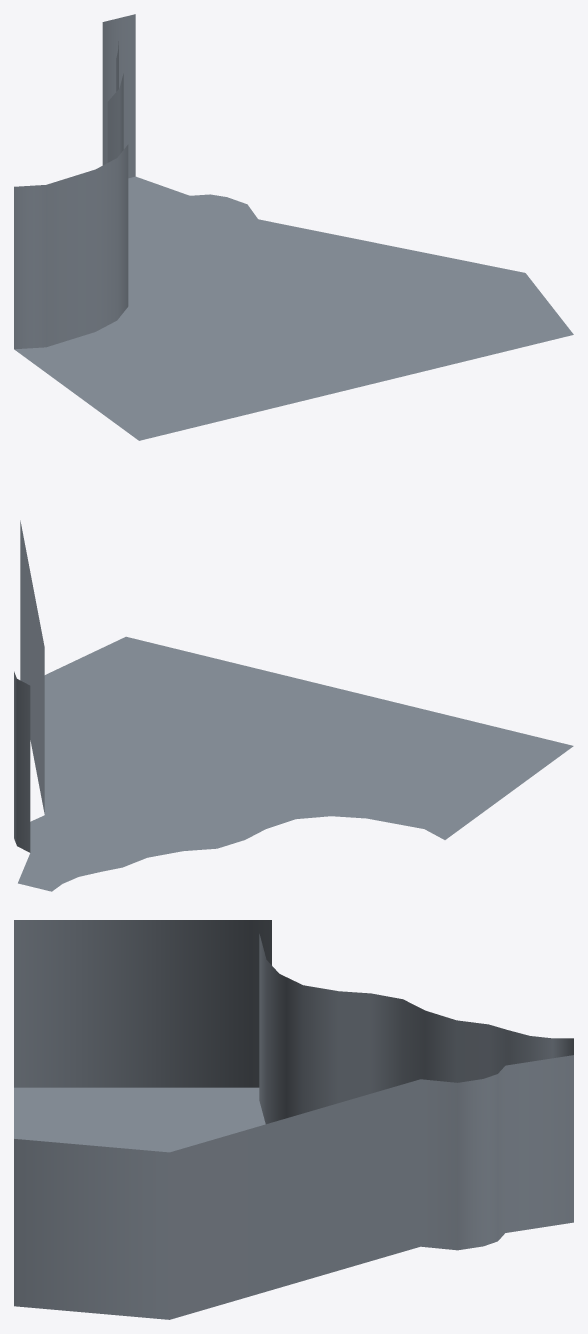
Rendered from gltf__Models__map__Village__startup__v_startup_mergedCollision.glb.
The picture shows the model from 3 angles, top to bottom: view 1: azimuth 30°, elevation 25°; view 2: azimuth 150°, elevation 25°; view 3: azimuth 270°, elevation 25°; orthographic projection. The views are drawn at different scales.
Parts seen in each view (by area): view 1: v_startup_mergedCollision; view 2: v_startup_mergedCollision; view 3: v_startup_mergedCollision.
Part boxes in pixels (x1=…): v_startup_mergedCollision: x1=14, y1=14, x2=573, y2=440; v_startup_mergedCollision: x1=14, y1=520, x2=573, y2=891; v_startup_mergedCollision: x1=14, y1=920, x2=573, y2=1319.
Size of the model in its own units: 5.06 by 1.7 by 5.15.
1 material, 1 textured.
